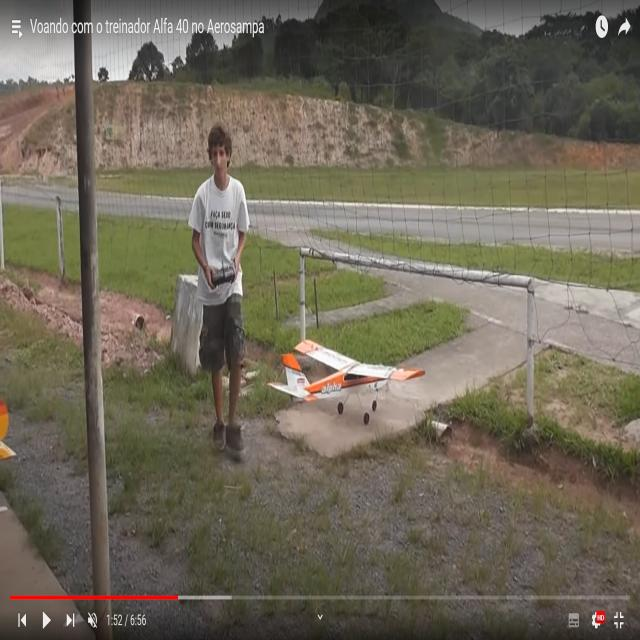iha: (266, 370, 426, 394)
